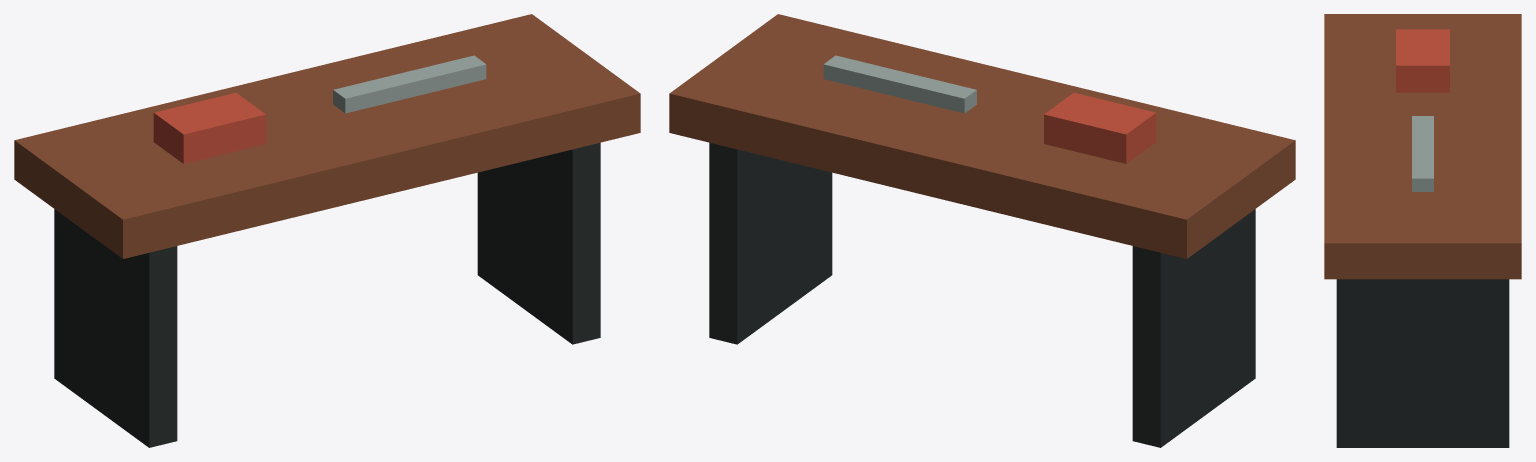
File: workbench.glb
3 renders of one model, left to right at view 1: azimuth 30°, elevation 25°; view 2: azimuth 150°, elevation 25°; view 3: azimuth 270°, elevation 25°, orthographic. The views are drawn at different scales.
Parts seen in each view (by area): view 1: _MeshInstance3D_515, _MeshInstance3D_516, _MeshInstance3D_517, _MeshInstance3D_518, _MeshInstance3D_519; view 2: _MeshInstance3D_515, _MeshInstance3D_516, _MeshInstance3D_517, _MeshInstance3D_518, _MeshInstance3D_519; view 3: _MeshInstance3D_515, _MeshInstance3D_517, _MeshInstance3D_518, _MeshInstance3D_519.
Boxes of the visible parts, x1,y1,x2,y2 form: _MeshInstance3D_515: (14,14,640,258); _MeshInstance3D_516: (54,209,177,447); _MeshInstance3D_517: (477,142,600,344); _MeshInstance3D_518: (153,92,265,163); _MeshInstance3D_519: (333,55,486,113); _MeshInstance3D_515: (669,14,1295,258); _MeshInstance3D_516: (1132,209,1255,447); _MeshInstance3D_517: (709,142,832,344); _MeshInstance3D_518: (1044,92,1156,163); _MeshInstance3D_519: (823,55,976,113); _MeshInstance3D_515: (1324,14,1521,279); _MeshInstance3D_517: (1336,279,1509,447); _MeshInstance3D_518: (1396,29,1449,92); _MeshInstance3D_519: (1412,116,1433,191).
Size of the model in its own units: 2.2 by 1.11 by 0.8.
